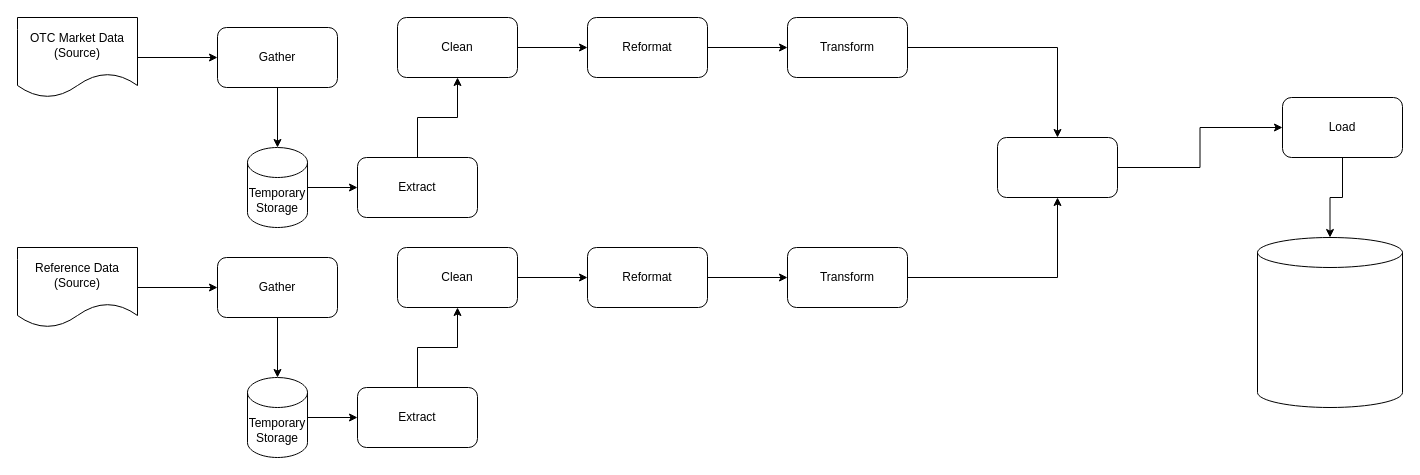
Some shapes in this 1420 by 475 pixel diagram are drawn without their labels. The box of each missing label's shape, as (x1, y1, x2, y2) in pixels:
Consolidate: (996, 136, 1118, 198)
Data Warehouse: (1256, 236, 1402, 408)
